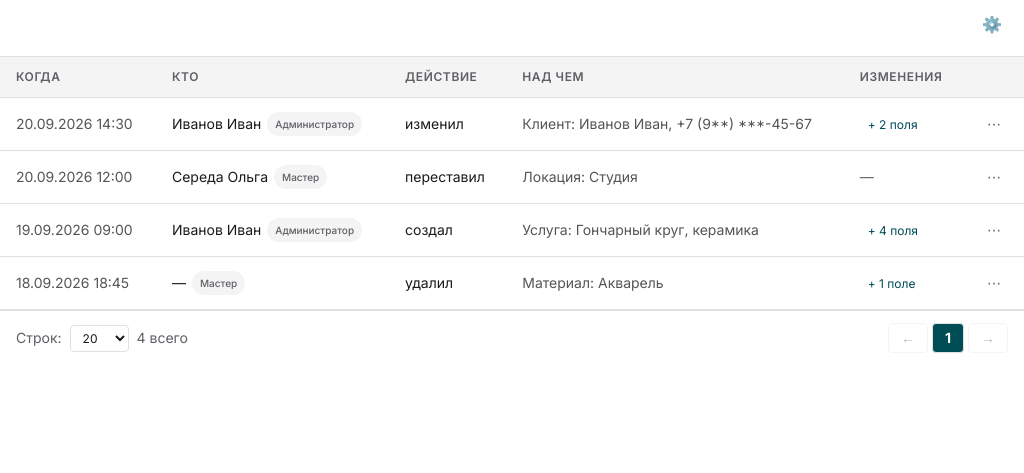
AuditLogTable (GH #344 §7) › create rows render null-before as «—» and canonical scalars (да, [t1, t2])
Click the button "+ 4 поля" at {"x": 893, "y": 230}, box [860,220,926,240]
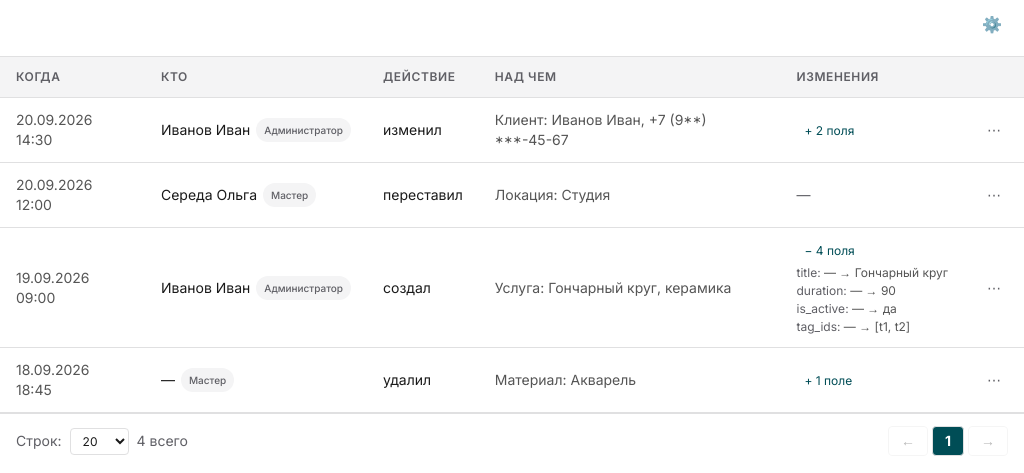
expect the text "duration:" is shown: met, box [796,283,847,298]
expect the text "duration: — → 90" is shown: met, box [796,283,896,298]
expect the text "is_active: — → да" is shown: met, box [796,301,897,316]
